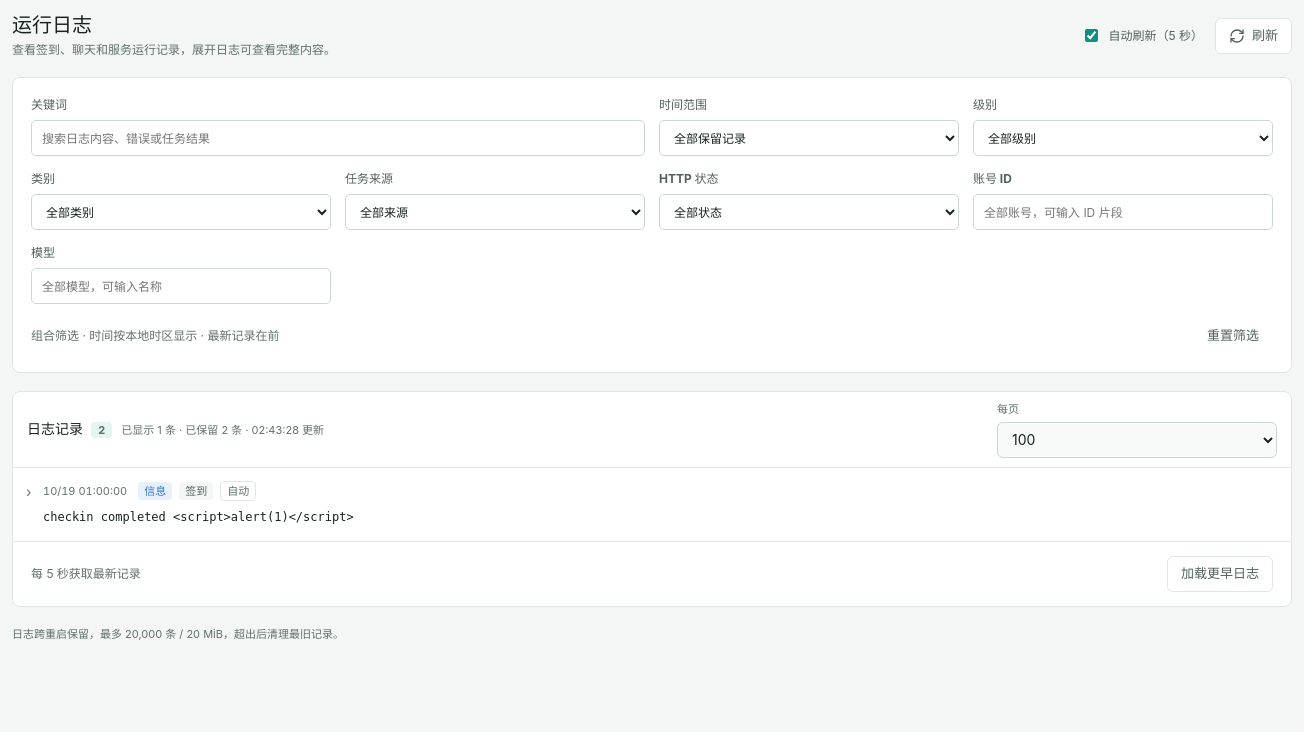
Test case: LogsView › uses stable pagination and pauses polling while browsing history
Click the button "加载更早日志".
click(1220, 574)  # box [1167,556,1273,592]
Wait 10000 ms
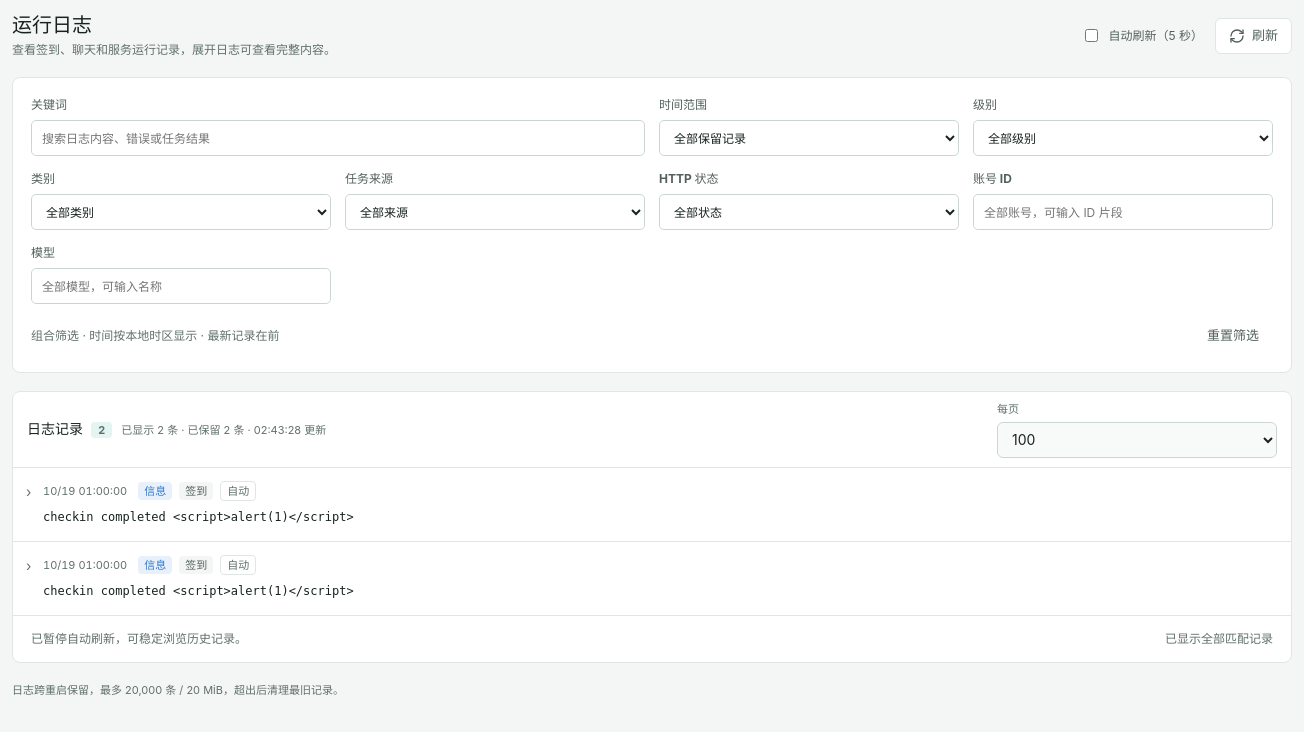
Expected: the number of elements with class "log-entry" is 2, [13,468,1291,542]; [43,555,354,598]
Expected: the text "已暂停自动刷新" is shown, [31,631,247,646]
